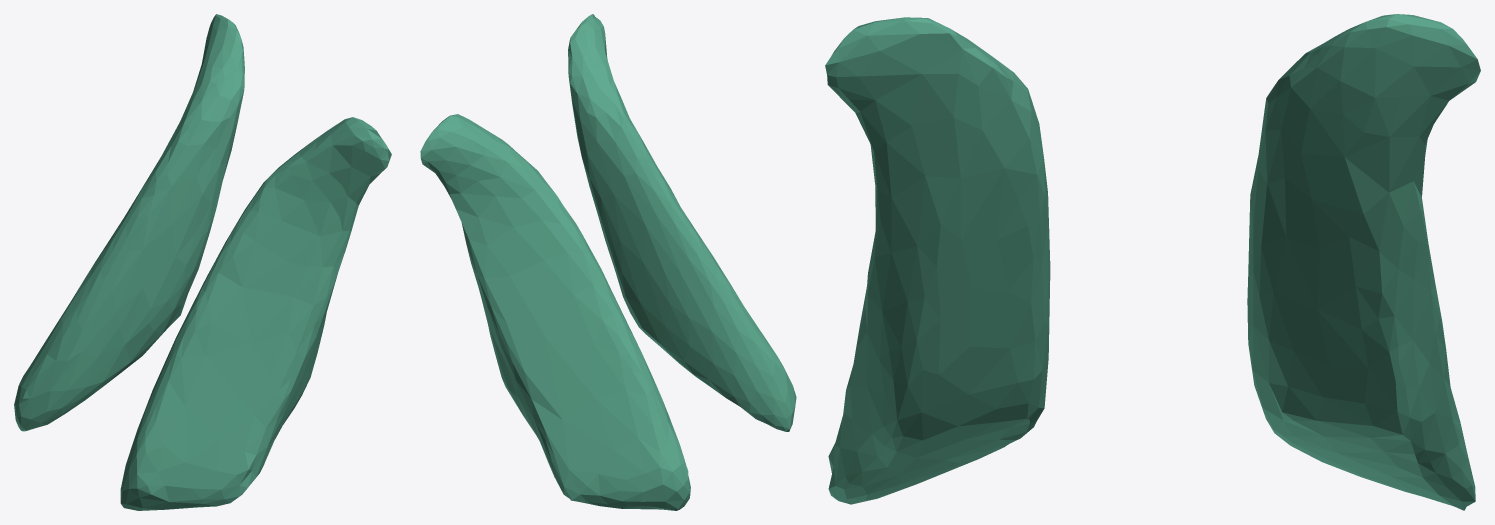
3 views of the same model, side by side, from view 1: azimuth 30°, elevation 25°; view 2: azimuth 150°, elevation 25°; view 3: azimuth 270°, elevation 25° (orthographic). The views are drawn at different scales.
Visible parts, largest first — view 1: 620.obj; view 2: 620.obj; view 3: 620.obj.
Part boxes in pixels (x1,y1,x2,y2): 620.obj: (14,14,391,510); 620.obj: (420,14,796,510); 620.obj: (825,14,1480,510).
Size of the model in its own units: 1130 by 1613 by 1485.
